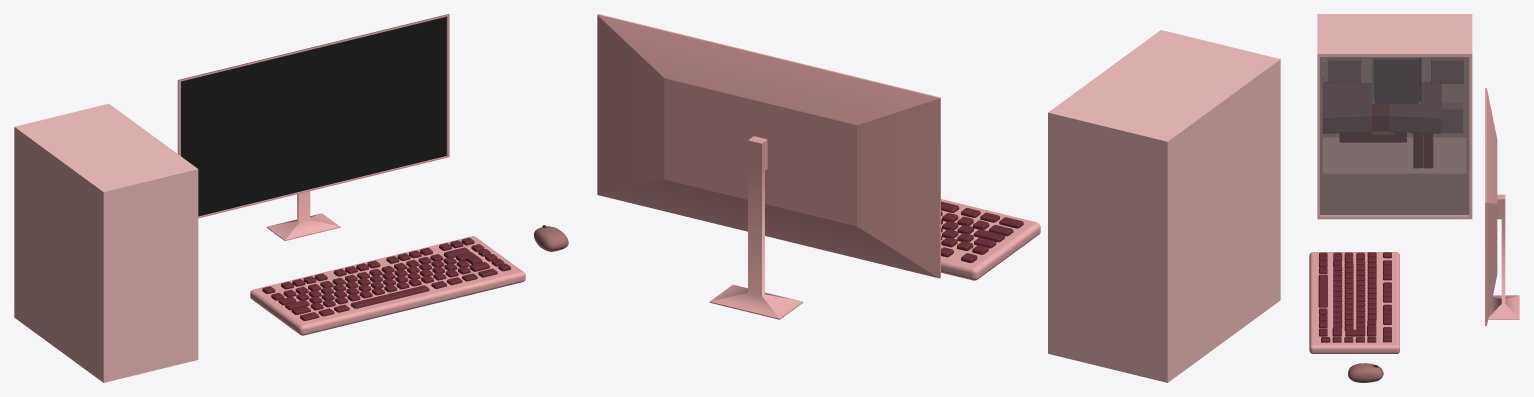
Rendered from pink_computer.glb.
3 views of the same model, side by side, from view 1: azimuth 30°, elevation 25°; view 2: azimuth 150°, elevation 25°; view 3: azimuth 270°, elevation 25° (orthographic). The views are drawn at different scales.
Visible parts, largest first — view 1: gabinete:pCube14, tv:pCube1, pCube94, pCylinder2; view 2: gabinete:pCube14, tv:pCube1, pCube94; view 3: gabinete:pCube14, pCube94, tv:pCube1, pCylinder2.
Part boxes in pixels (x1,y1,x2,y2): gabinete:pCube14: (14, 103, 198, 382); tv:pCube1: (177, 14, 449, 240); pCube94: (250, 236, 525, 335); pCylinder2: (534, 225, 568, 251); gabinete:pCube14: (1048, 30, 1280, 382); tv:pCube1: (597, 14, 940, 319); pCube94: (941, 199, 1040, 280); gabinete:pCube14: (1317, 14, 1472, 219); pCube94: (1309, 252, 1399, 353); tv:pCube1: (1485, 88, 1519, 325); pCylinder2: (1348, 363, 1383, 382).
Size of the model in its own units: 0.1656 by 0.062 by 0.0714.
